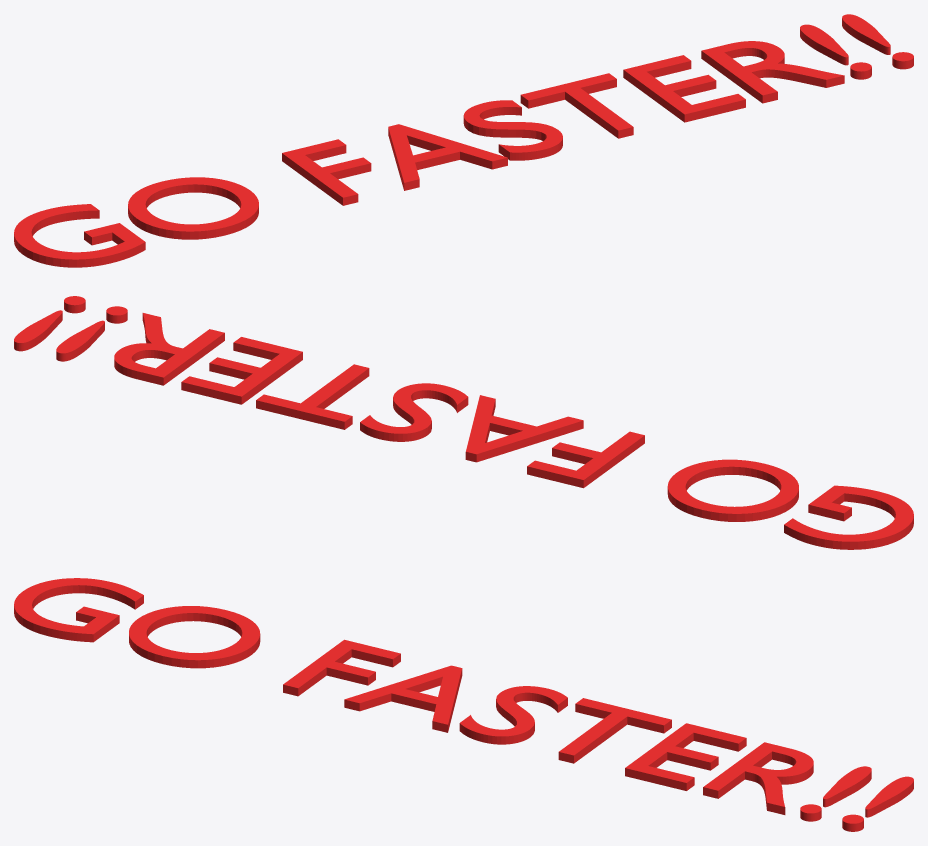
Rendered from go_faster.fbx.
The picture shows the model from 3 angles, top to bottom: view 1: azimuth 30°, elevation 25°; view 2: azimuth 150°, elevation 25°; view 3: azimuth 330°, elevation 25°; orthographic projection.
Visible parts, largest first — view 1: Text.012; view 2: Text.012; view 3: Text.012.
Boxes of the visible parts, x1,y1,x2,y2 form: Text.012: (14, 14, 913, 267); Text.012: (14, 296, 913, 549); Text.012: (14, 578, 913, 831).
Bounding box in the file's own units: 556 × 5 × 70.
